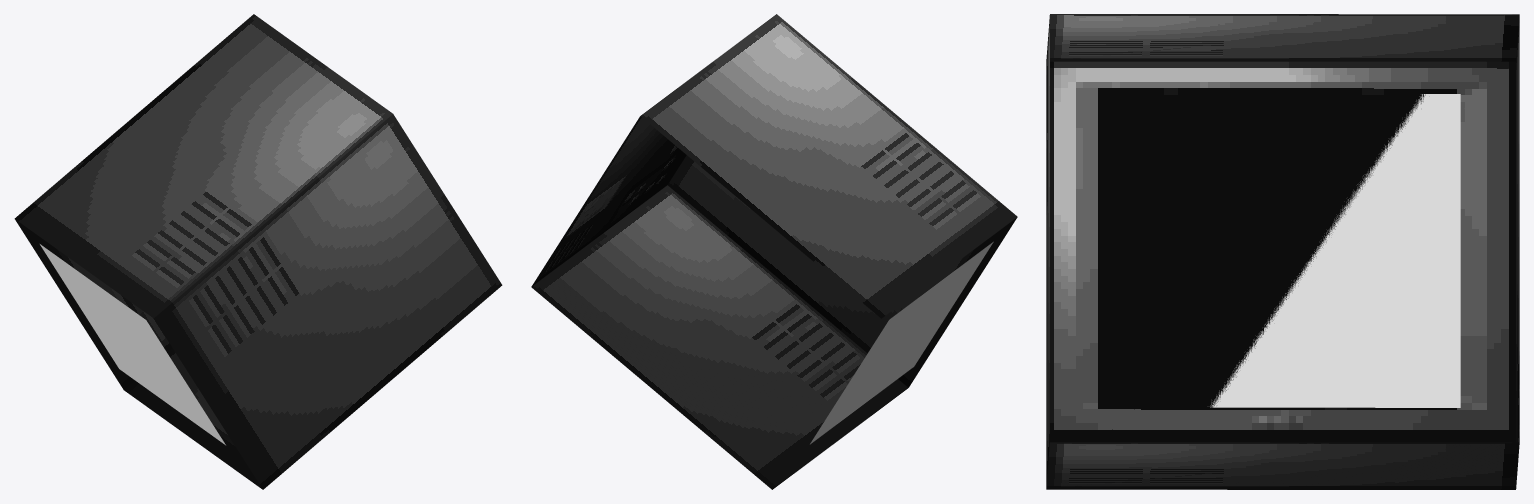
File: primary_186.glb
The picture shows the model from 3 angles, left to right: view 1: azimuth 30°, elevation 25°; view 2: azimuth 150°, elevation 25°; view 3: azimuth 270°, elevation 25°; orthographic projection. The views are drawn at different scales.
Parts seen in each view (by area): view 1: Object; view 2: Object; view 3: Object.
Part boxes in pixels (x1,y1,x2,y2): Object: [14, 14, 502, 489]; Object: [531, 14, 1017, 489]; Object: [1046, 14, 1519, 489].
Size of the model in its own units: 0.9014 by 0.8444 by 0.6181.
7 materials, 7 textured.
